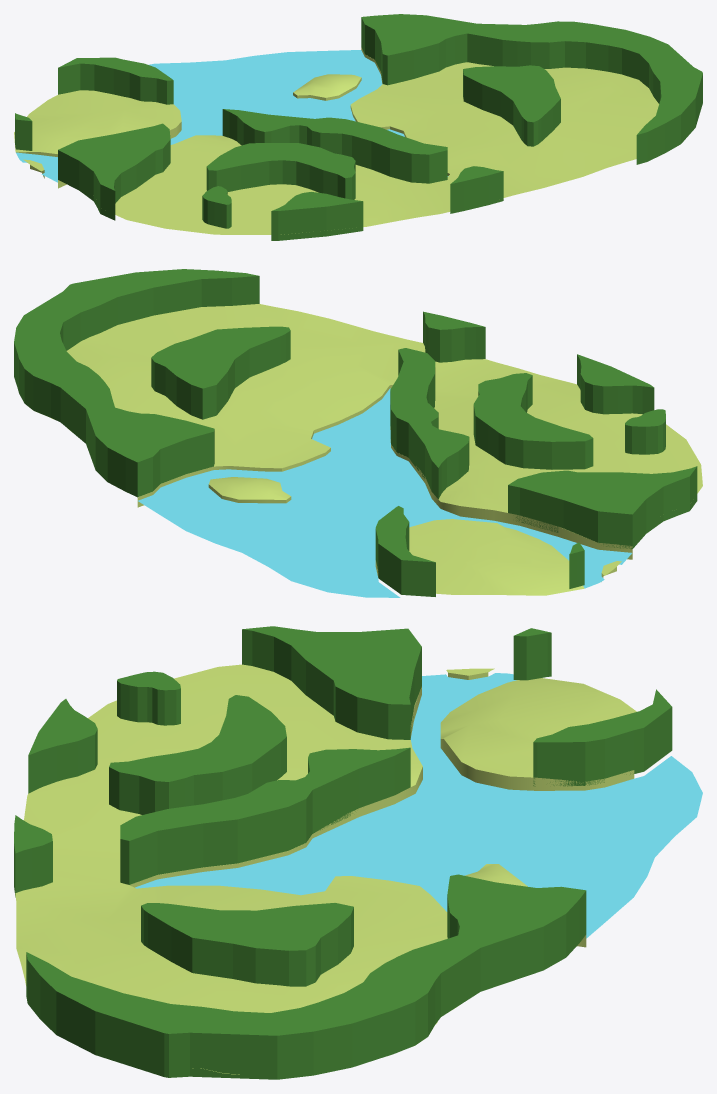
Rendered from enviBlocked_v10.fbx.
3 renders of one model, top to bottom at view 1: azimuth 30°, elevation 25°; view 2: azimuth 150°, elevation 25°; view 3: azimuth 270°, elevation 25°, orthographic. The views are drawn at different scales.
Parts seen in each view (by area): view 1: block.003, ground.004, water.004; view 2: block.003, ground.004, water.004; view 3: block.003, ground.004, water.004.
Boxes of the visible parts, x1=… form: block.003: x1=15, y1=14, x2=702, y2=240; ground.004: x1=14, y1=47, x2=658, y2=234; water.004: x1=16, y1=50, x2=448, y2=182; block.003: x1=14, y1=269, x2=697, y2=596; ground.004: x1=51, y1=304, x2=702, y2=595; water.004: x1=138, y1=388, x2=631, y2=597; block.003: x1=14, y1=626, x2=672, y2=1079; ground.004: x1=15, y1=664, x2=636, y2=1074; water.004: x1=135, y1=673, x2=702, y2=938.
Size of the model in its own units: 10024 by 650 by 7096.
